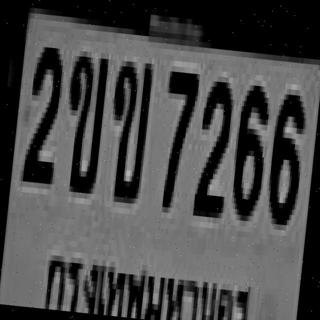A02: (102, 54, 152, 198), (58, 44, 108, 188)
N02: (191, 75, 235, 213), (20, 40, 64, 178)
N06: (228, 79, 270, 216), (264, 88, 306, 220)
N07: (154, 65, 198, 209)
P04: (40, 242, 258, 320)
